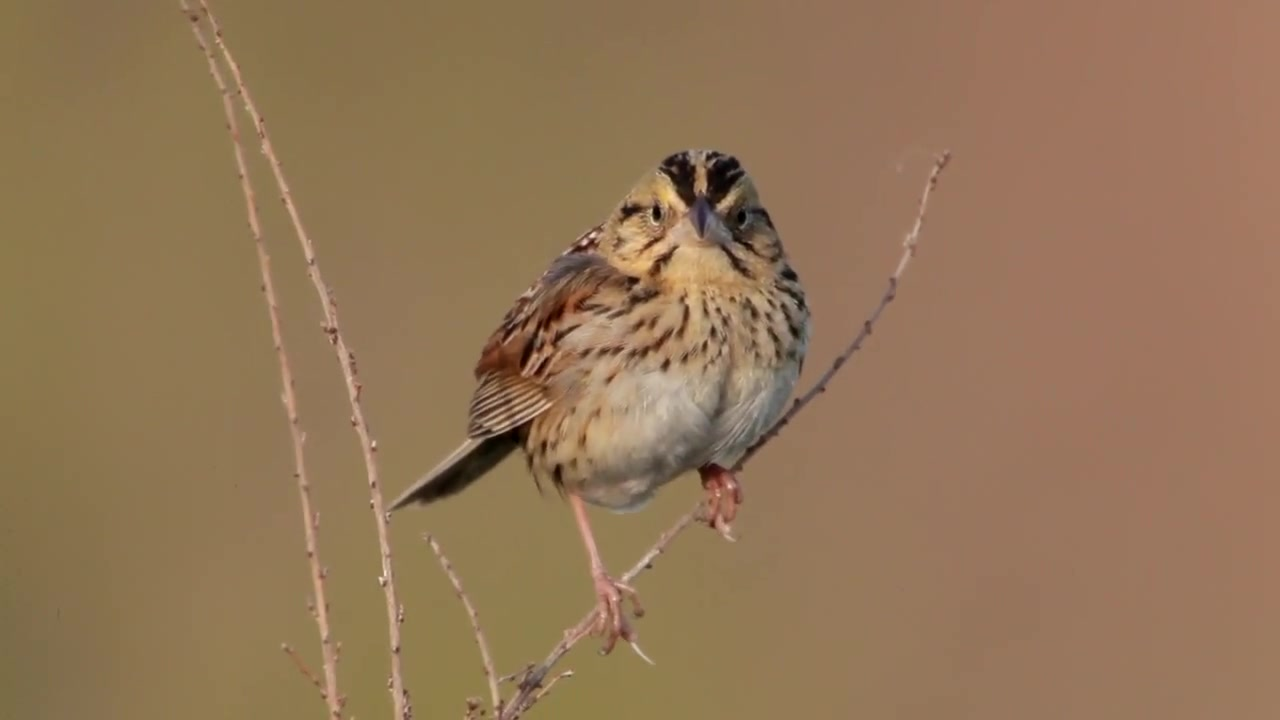bird: (386, 148, 814, 666)
